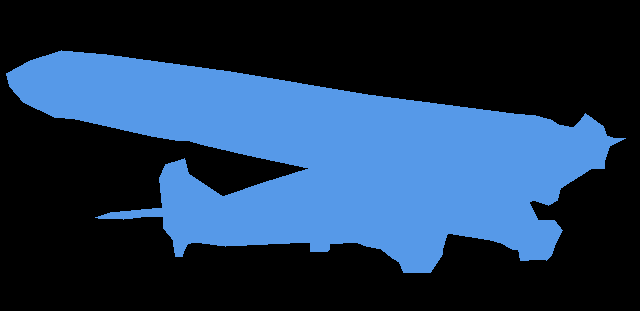Airplane: (6, 50, 626, 272)
